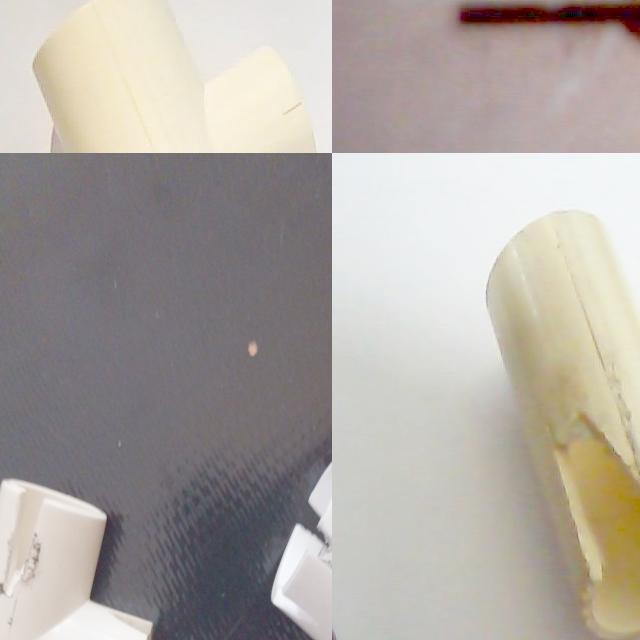Defective: (554, 401, 640, 557), (29, 328, 107, 426), (57, 211, 147, 283), (72, 576, 146, 640)
L Joint: (0, 156, 165, 415), (0, 575, 210, 640)
T Joint: (484, 210, 640, 640), (30, 0, 317, 153)
